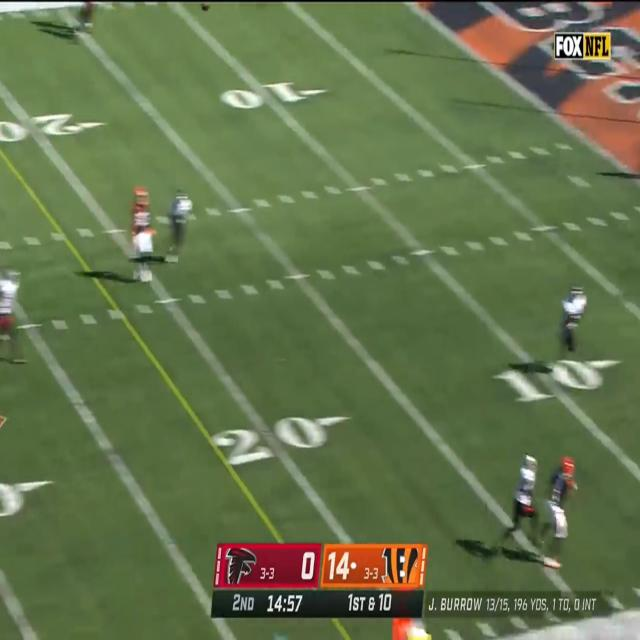Ball: (200, 1, 212, 14)
